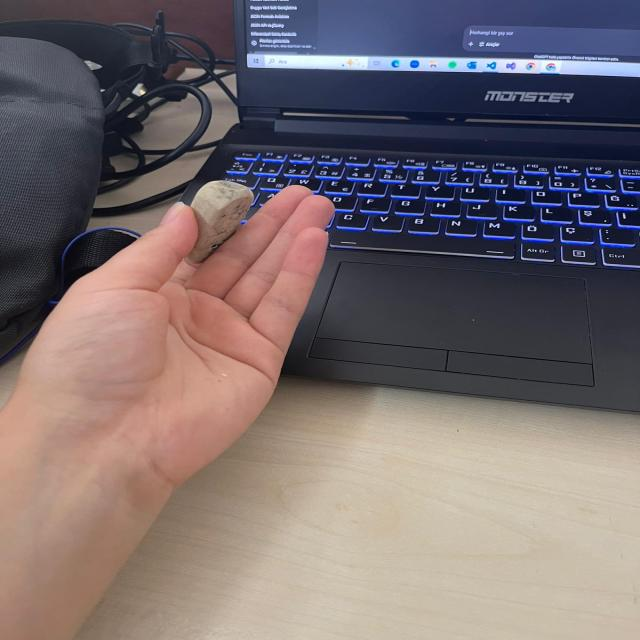eraser: (173, 159, 259, 267)
